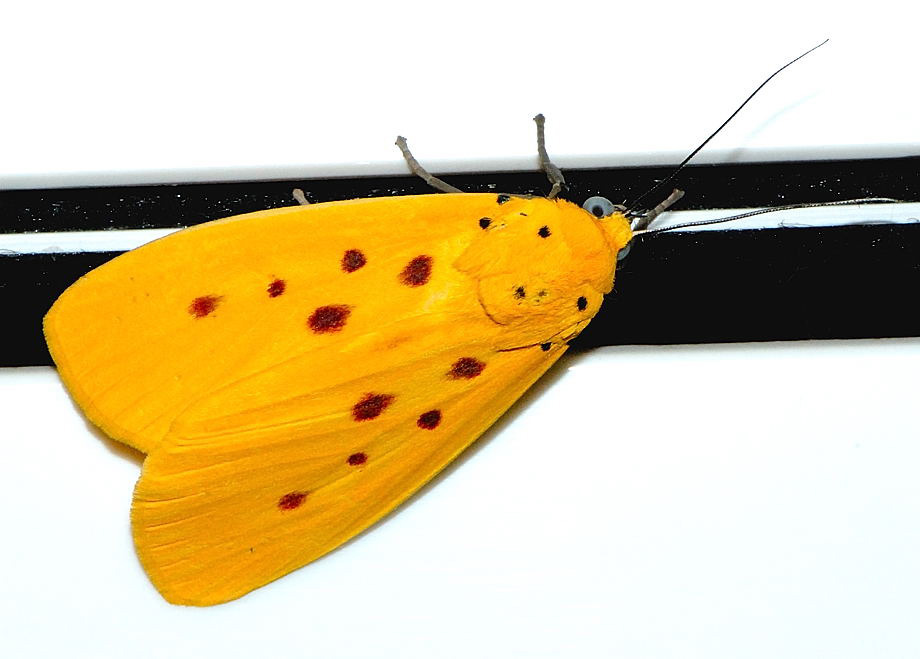Agape chloropyga: (35, 29, 903, 608)
moth: (37, 31, 905, 610)
